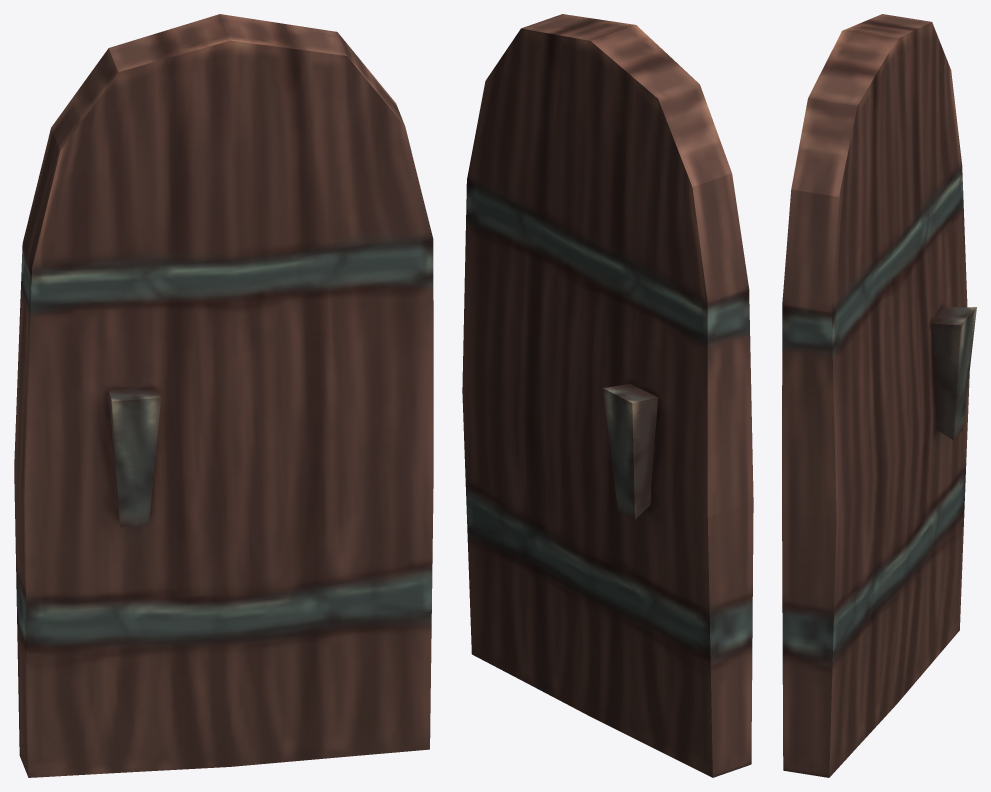
Rendered from TavernDoor.glb.
The picture shows the model from 3 angles, left to right: view 1: azimuth 30°, elevation 25°; view 2: azimuth 150°, elevation 25°; view 3: azimuth 270°, elevation 25°; orthographic projection. The views are drawn at different scales.
Visible parts, largest first — view 1: houseOfHero_door001; view 2: houseOfHero_door001; view 3: houseOfHero_door001.
Boxes of the visible parts, x1,y1,x2,y2 form: houseOfHero_door001: (14,14,433,777); houseOfHero_door001: (462,14,753,777); houseOfHero_door001: (782,14,976,777).
Bounding box in the file's own units: 1.4 × 2.73 × 0.7261.
1 material, 1 textured.
